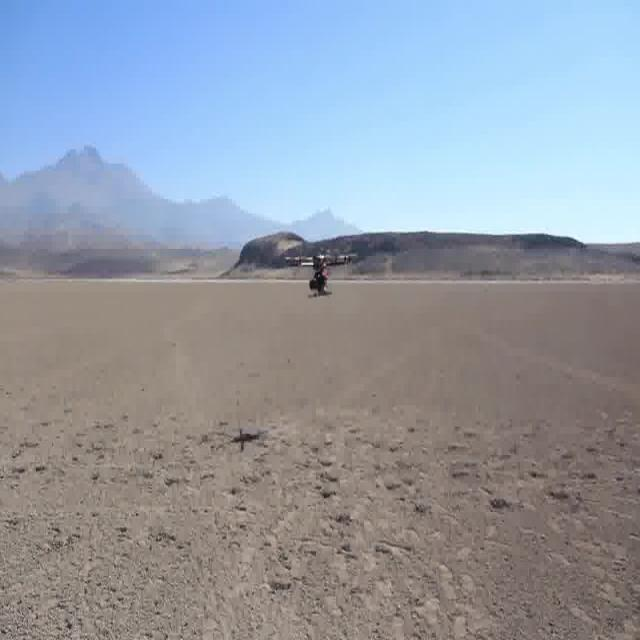drone: (268, 232, 375, 318)
